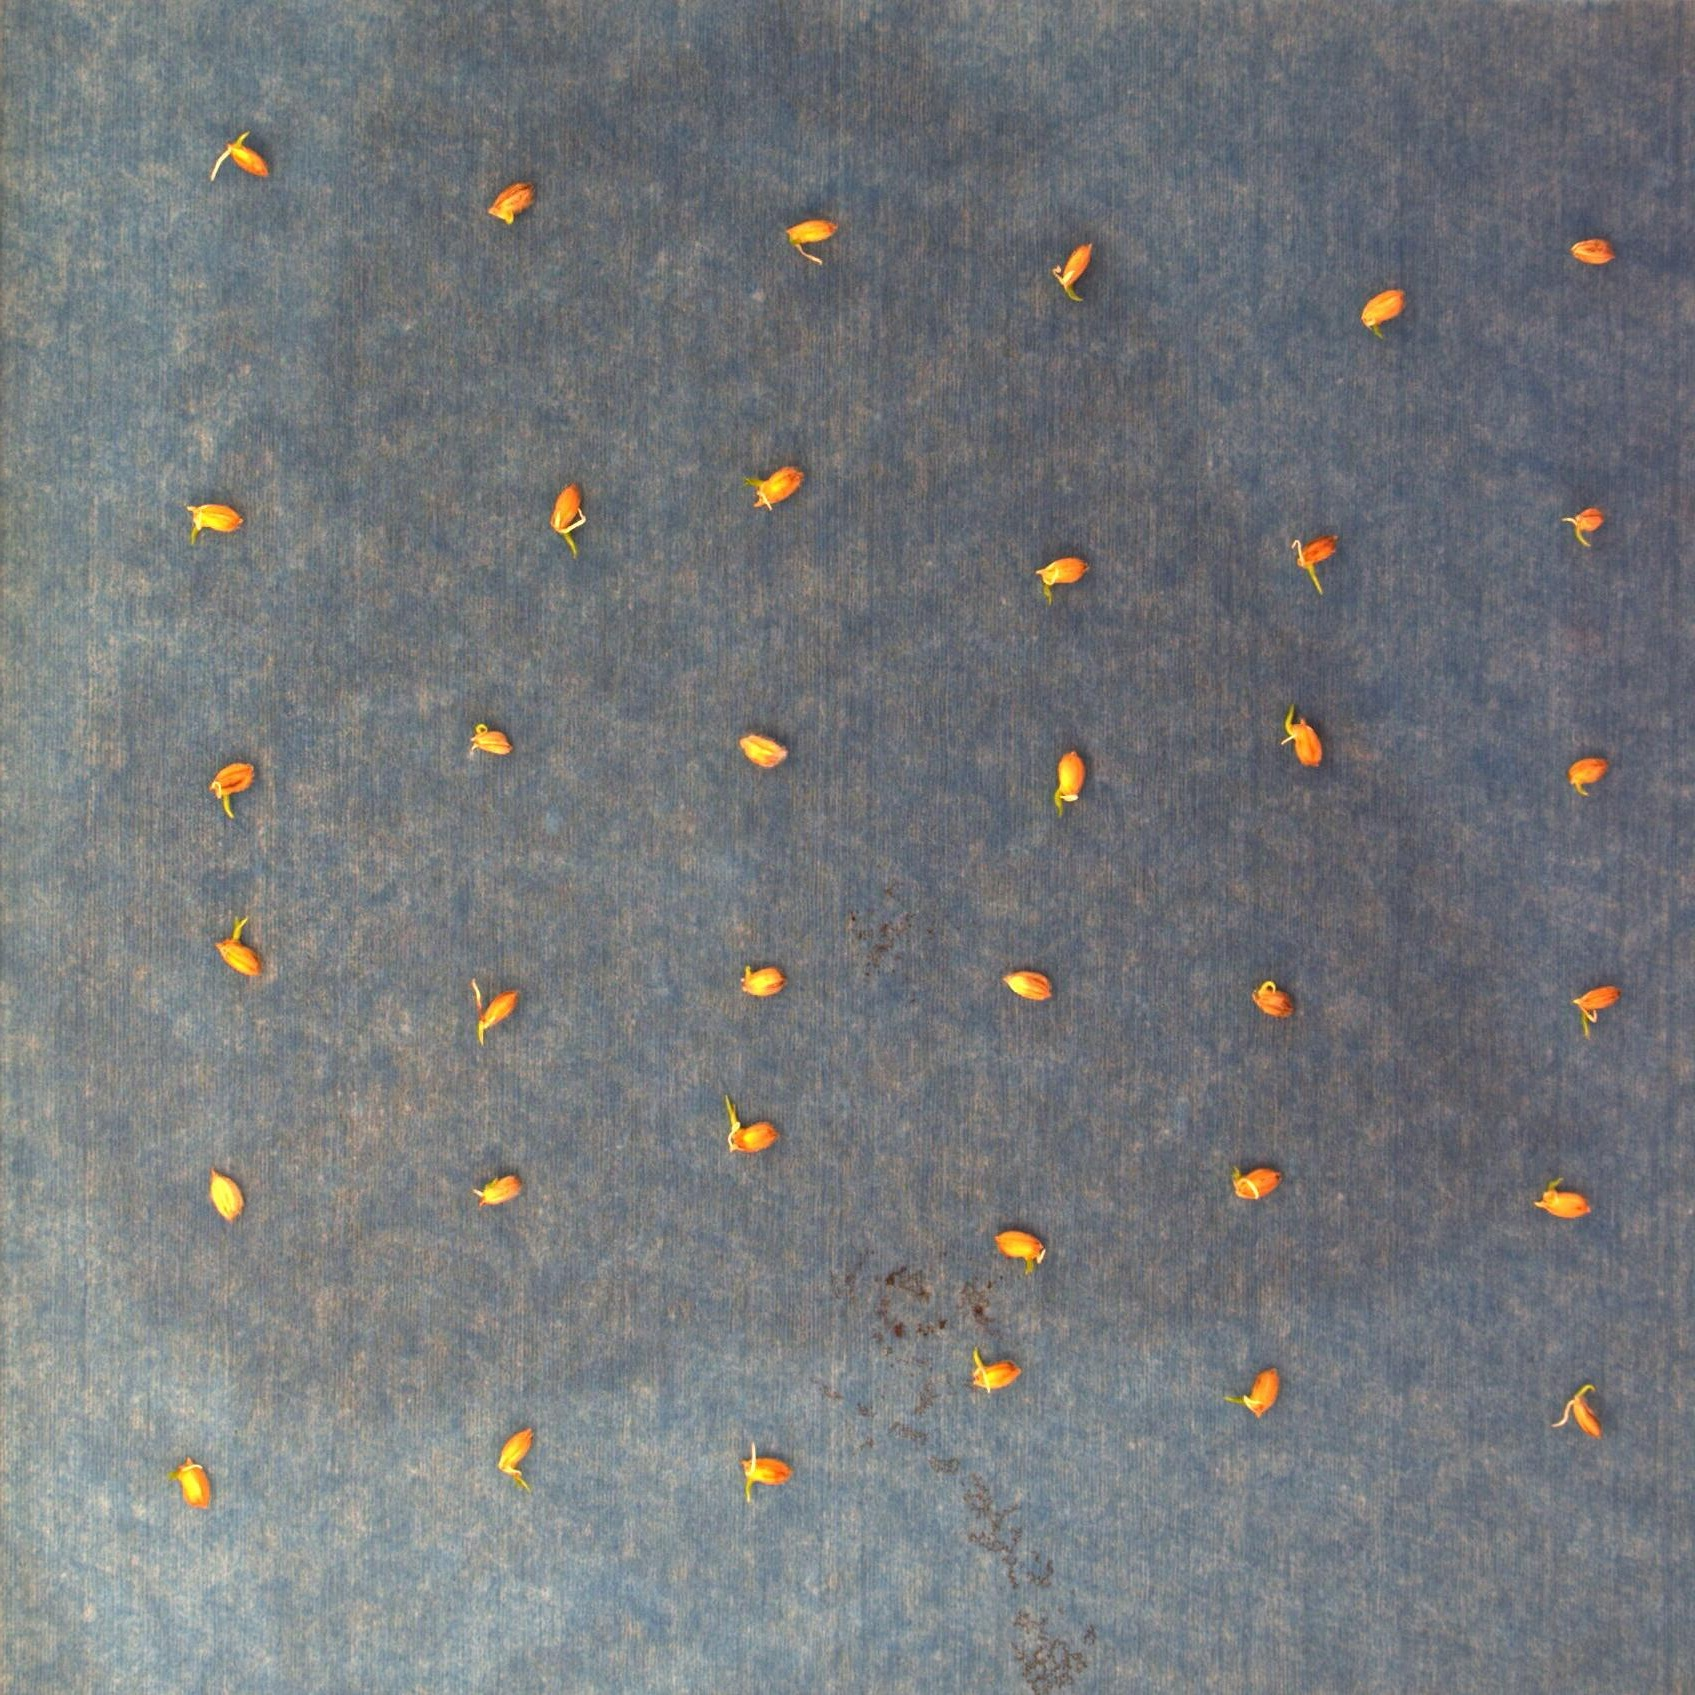not sprout: (205, 127, 276, 188), (469, 972, 523, 1049), (1354, 282, 1414, 338), (1225, 1364, 1287, 1419), (1031, 556, 1094, 607), (782, 217, 843, 265), (736, 725, 795, 771), (188, 498, 247, 543), (1527, 1180, 1594, 1218), (203, 1161, 244, 1225), (997, 1226, 1049, 1274), (970, 1346, 1023, 1392), (483, 182, 537, 224), (469, 1169, 526, 1208), (1232, 1158, 1287, 1198), (466, 719, 515, 762), (1248, 976, 1295, 1021), (1000, 969, 1054, 1006), (175, 1454, 213, 1509), (733, 962, 785, 998), (1562, 756, 1607, 795), (1572, 234, 1616, 264)
sprout: (736, 1437, 793, 1506), (720, 1094, 785, 1153), (1288, 529, 1340, 594), (548, 483, 591, 559), (1548, 1381, 1603, 1437), (1274, 705, 1322, 768), (206, 764, 261, 820), (744, 464, 807, 511), (1572, 983, 1624, 1040), (1049, 244, 1094, 304), (213, 914, 258, 973), (1049, 751, 1087, 820), (500, 1426, 536, 1489), (1558, 504, 1603, 549)
